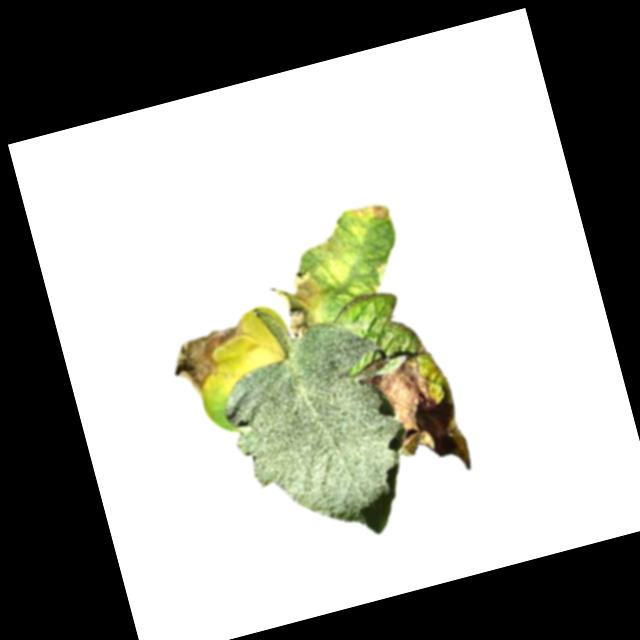Late_blight: (368, 349, 447, 460), (163, 317, 260, 401), (264, 265, 335, 343), (348, 197, 392, 229)
healthy: (209, 314, 420, 562)
